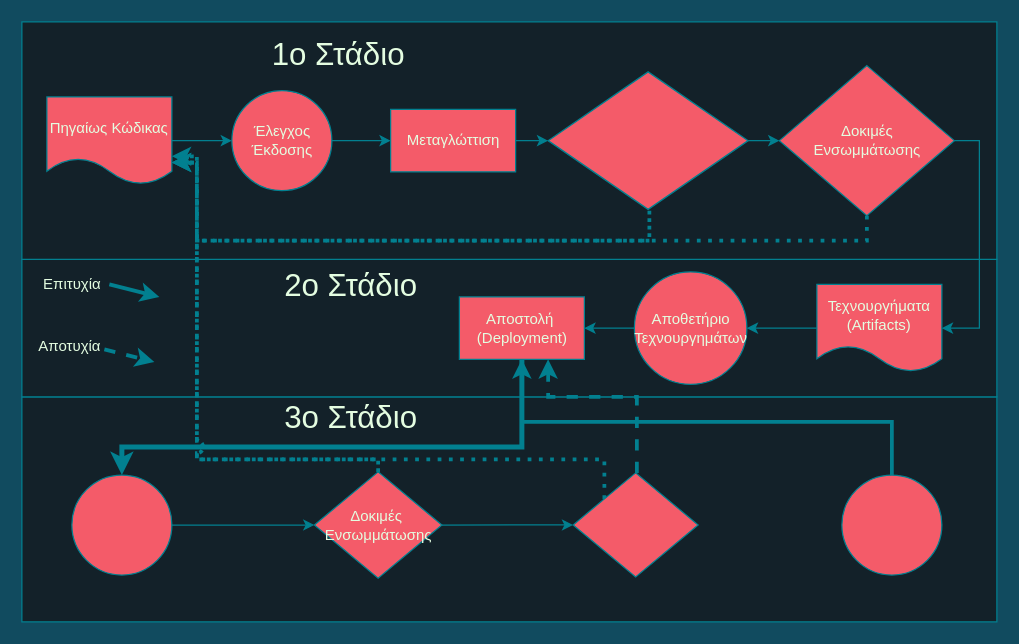
This 1019x644 diagram has some shape labels left out. The centre of each missing label's shape, as x and y in pixels:
"Δοκιμές από άκρη-σε-άκρη" goes at point (635, 524).
"Δοκιμές Μονάδας (Unit Testing)" goes at point (647, 140).
"Περιβάλλον Συνεχούς Ενσωμάτωσης" goes at point (121, 524).
"Περιβάλλον Τελικού Χρήστη" goes at point (891, 524).
